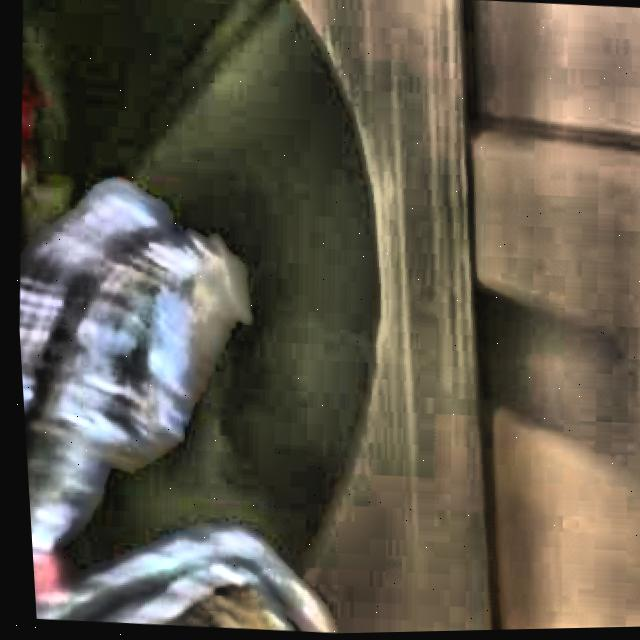metal: (14, 183, 325, 634)
